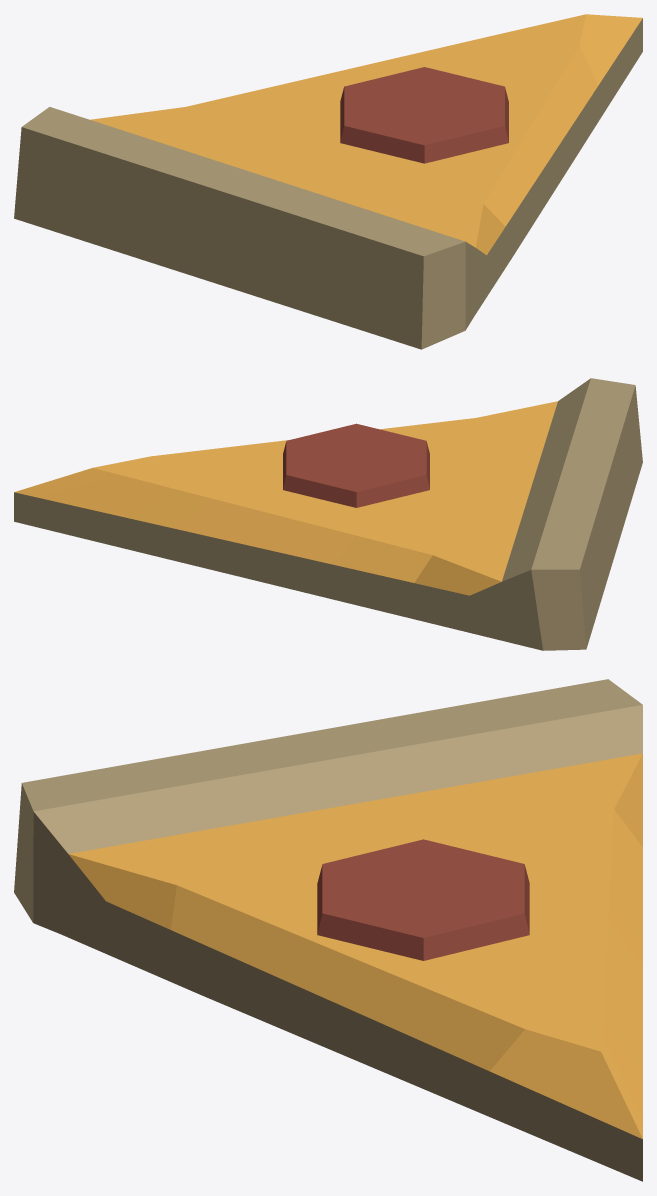
The model's file is SM_Item_Pizza_Slice_01.obj.
3 renders of one model, top to bottom at view 1: azimuth 30°, elevation 25°; view 2: azimuth 150°, elevation 25°; view 3: azimuth 270°, elevation 25°, orthographic. The views are drawn at different scales.
Parts seen in each view (by area): view 1: SM_Item_Pizza_Slice_01_0; view 2: SM_Item_Pizza_Slice_01_0; view 3: SM_Item_Pizza_Slice_01_0.
Part boxes in pixels (x1,y1,x2,y2): SM_Item_Pizza_Slice_01_0: (14, 14, 642, 349); SM_Item_Pizza_Slice_01_0: (14, 378, 642, 650); SM_Item_Pizza_Slice_01_0: (14, 679, 642, 1181).
Bounding box in the file's own units: 0.2434 × 0.0325 × 0.164.
1 material, 1 textured.
